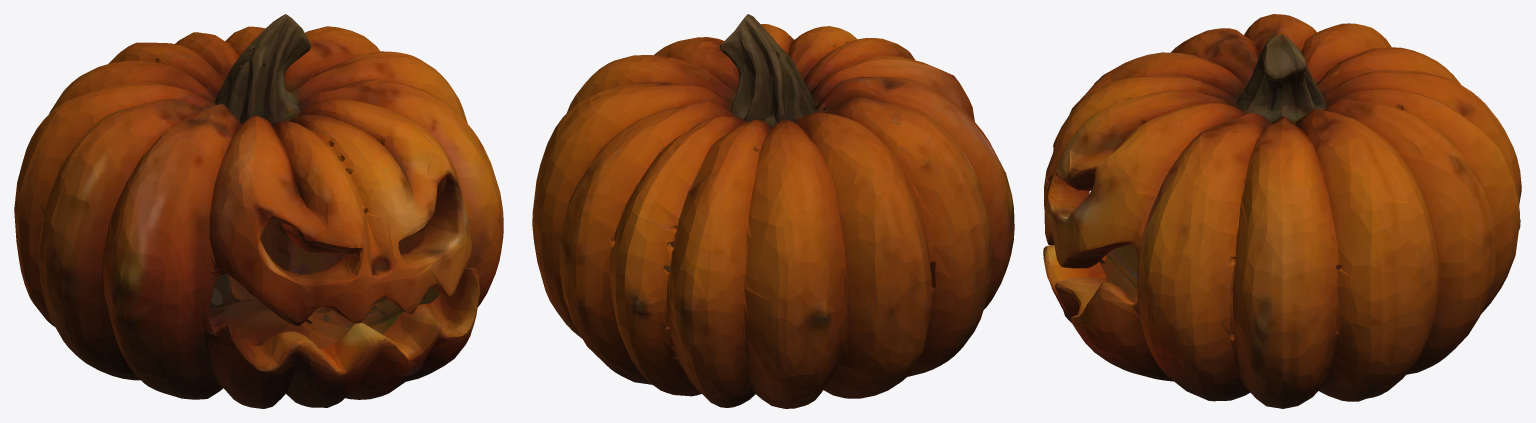
Rendered from pumpkin_jackolantern_squat.glb.
3 views of the same model, side by side, from view 1: azimuth 30°, elevation 25°; view 2: azimuth 150°, elevation 25°; view 3: azimuth 270°, elevation 25° (orthographic). The views are drawn at different scales.
Visible parts, largest first — view 1: geometry_0; view 2: geometry_0; view 3: geometry_0.
Part boxes in pixels (box(x1,y1,x2,y2)): geometry_0: box(14, 14, 503, 408); geometry_0: box(532, 14, 1014, 408); geometry_0: box(1043, 14, 1521, 408).
Bounding box in the file's own units: 0.9979 × 0.7645 × 0.9962.
Materials: 1 (1 with a texture image).
